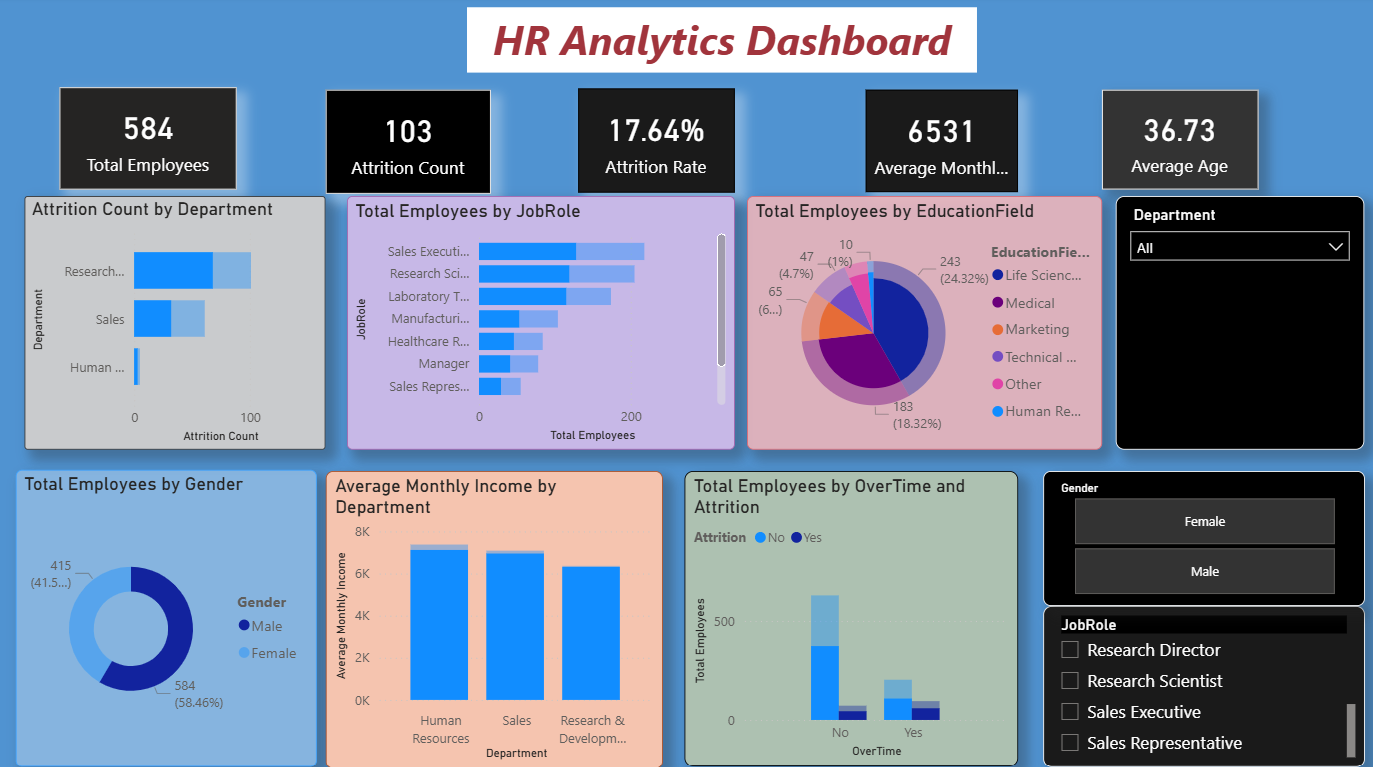

This screenshot's page, from the dashboard's own definition file:
{"tool":"powerbi","page":{"name":"Page 1","canvas":[1280,720],"ordinal":0},"visuals":[{"type":"card","fields":{"Values":["HR-Employee-Attrition.Total Employees"]},"box":[58.1,84.9,165.1,95.3],"z":0},{"type":"card","fields":{"Values":["HR-Employee-Attrition.Attrition Count"]},"box":[305.8,87.2,153.5,96.5],"z":1000},{"type":"card","fields":{"Values":["HR-Employee-Attrition.Attrition Rate"]},"box":[540.7,86,145.3,96.5],"z":2000},{"type":"card","fields":{"Values":["HR-Employee-Attrition.Average Monthly Income"]},"box":[808.1,87.2,141.9,95.3],"z":3000},{"type":"card","fields":{"Values":["HR-Employee-Attrition.Average Age"]},"box":[1027.9,91.9,145.3,88.4],"z":4000},{"type":"donutChart","fields":{"Category":["HR-Employee-Attrition.Gender"],"Y":["HR-Employee-Attrition.Total Employees"]},"box":[17.4,440.7,280.2,276.7],"z":6000},{"type":"clusteredBarChart","fields":{"Category":["HR-Employee-Attrition.JobRole"],"Y":["HR-Employee-Attrition.Total Employees"]},"box":[325.6,186,360.5,236],"z":7000},{"type":"pieChart","fields":{"Category":["HR-Employee-Attrition.EducationField"],"Y":["HR-Employee-Attrition.Total Employees"]},"box":[697.7,186,330.2,236],"z":8000},{"type":"clusteredColumnChart","fields":{"Category":["HR-Employee-Attrition.OverTime"],"Series":["HR-Employee-Attrition.Attrition"],"Y":["HR-Employee-Attrition.Total Employees"]},"box":[639.5,441.9,310.5,275.6],"z":10000},{"type":"slicer","fields":{"Values":["HR-Employee-Attrition.Department"]},"box":[1040.7,186,231.4,236],"z":11000},{"type":"slicer","fields":{"Values":["HR-Employee-Attrition.JobRole"]},"box":[973.3,567.4,298.8,150],"z":12000},{"type":"slicer","fields":{"Values":["HR-Employee-Attrition.Gender"]},"box":[973.3,441.9,298.8,125.6],"z":13000},{"type":"clusteredBarChart","fields":{"Category":["HR-Employee-Attrition.Department"],"Y":["HR-Employee-Attrition.Attrition Count"]},"box":[25.6,186,280.2,236],"z":13001},{"type":"columnChart","fields":{"Category":["HR-Employee-Attrition.Department"],"Y":["HR-Employee-Attrition.Average Monthly Income"]},"box":[305.8,441.9,314,277.9],"z":13002},{"type":"textbox","box":[437.2,10.5,474.4,60.5],"z":13003}]}

Visuals, with their boxes in screenshot pixels (x1, y1, x2, y2), scaled from the page's 1280x720 canvas onto the 1373x767 screenshot:
card - HR-Employee-Attrition.Total Employees: (x1=62, y1=90, x2=239, y2=192)
card - HR-Employee-Attrition.Attrition Count: (x1=328, y1=93, x2=493, y2=196)
card - HR-Employee-Attrition.Attrition Rate: (x1=580, y1=92, x2=736, y2=194)
card - HR-Employee-Attrition.Average Monthly Income: (x1=867, y1=93, x2=1019, y2=194)
card - HR-Employee-Attrition.Average Age: (x1=1103, y1=98, x2=1258, y2=192)
donutChart - HR-Employee-Attrition.Gender x HR-Employee-Attrition.Total Employees: (x1=19, y1=469, x2=319, y2=764)
clusteredBarChart - HR-Employee-Attrition.JobRole x HR-Employee-Attrition.Total Employees: (x1=349, y1=198, x2=736, y2=450)
pieChart - HR-Employee-Attrition.EducationField x HR-Employee-Attrition.Total Employees: (x1=748, y1=198, x2=1103, y2=450)
clusteredColumnChart - HR-Employee-Attrition.OverTime x HR-Employee-Attrition.Attrition: (x1=686, y1=471, x2=1019, y2=764)
slicer - HR-Employee-Attrition.Department: (x1=1116, y1=198, x2=1365, y2=450)
slicer - HR-Employee-Attrition.JobRole: (x1=1044, y1=604, x2=1365, y2=764)
slicer - HR-Employee-Attrition.Gender: (x1=1044, y1=471, x2=1365, y2=605)
clusteredBarChart - HR-Employee-Attrition.Department x HR-Employee-Attrition.Attrition Count: (x1=27, y1=198, x2=328, y2=450)
columnChart - HR-Employee-Attrition.Department x HR-Employee-Attrition.Average Monthly Income: (x1=328, y1=471, x2=665, y2=766)
textbox: (x1=469, y1=11, x2=978, y2=76)
